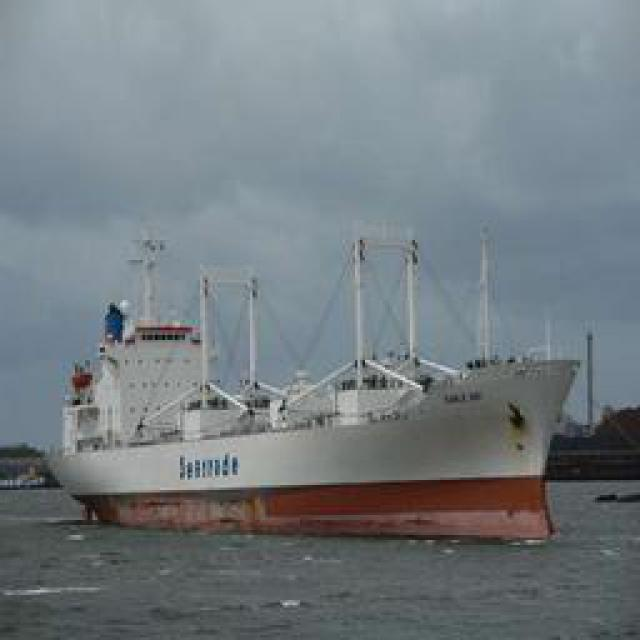Ship: (43, 221, 581, 516)
